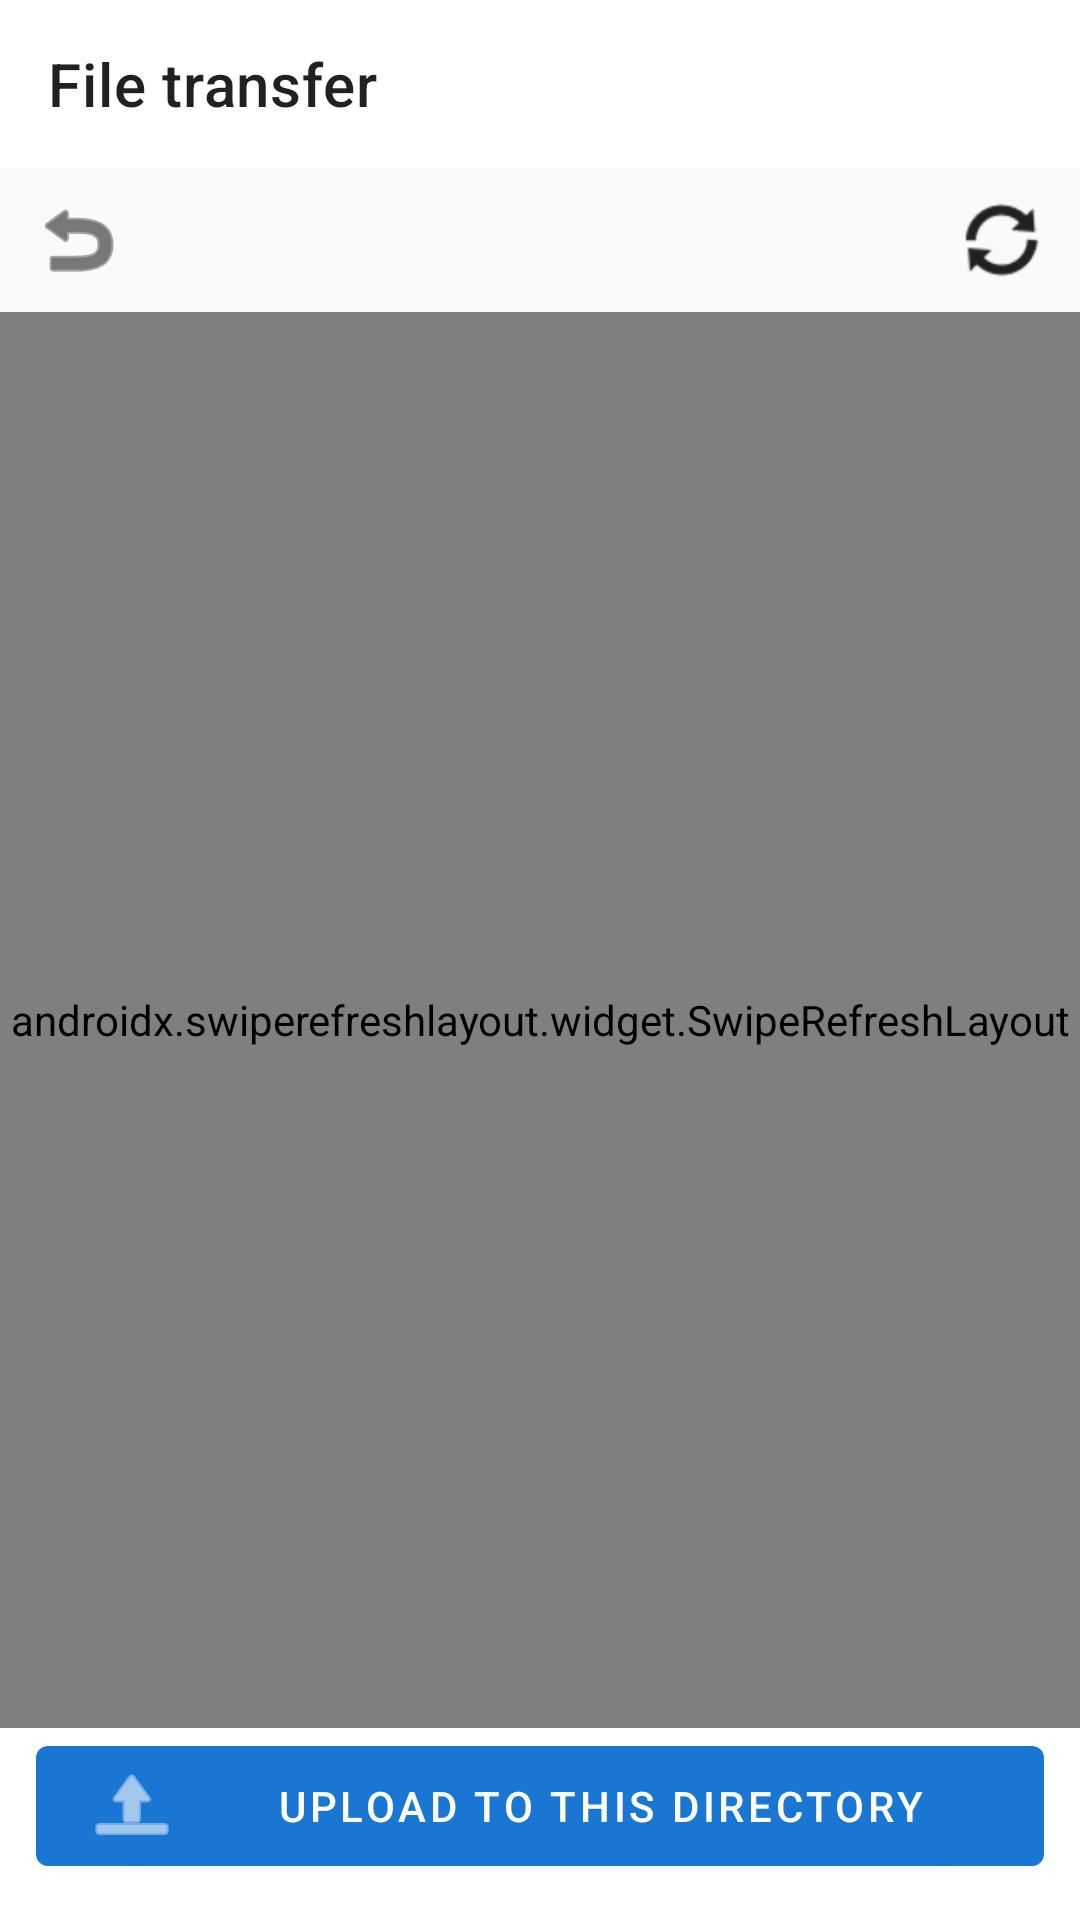

Named icons in this screenshot (1080px x 1920px) and their centers, (x=x, y=y):
Parent directory: (x=79, y=240)
Refresh remote directory: (x=1002, y=240)
